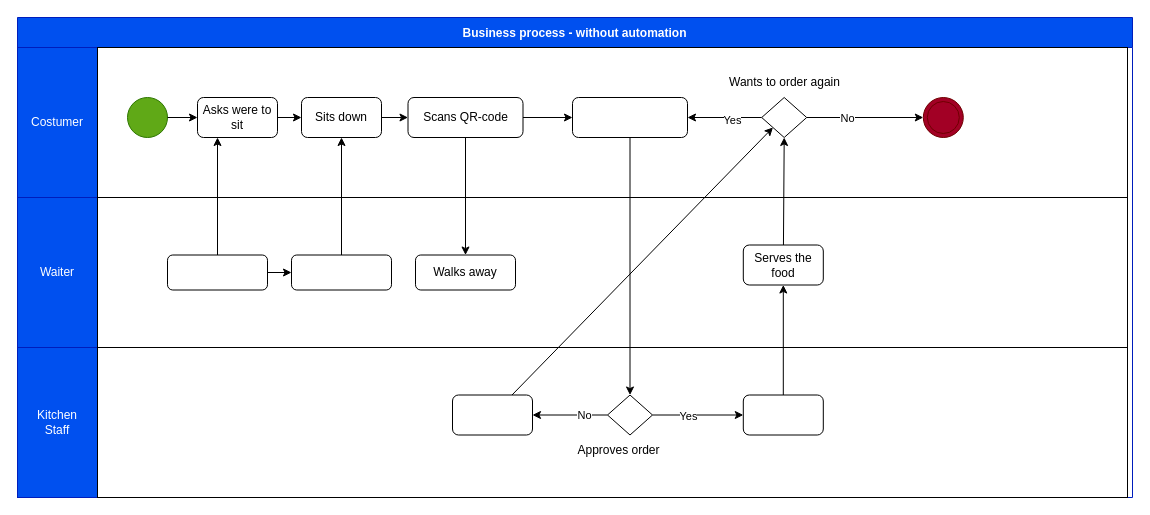
Image size: 1150x515. Some labels were removed from this diagram. Here are the shapes that lost their labels. From the top down, the centre of each, then its label:
At point 630,117: "Places an order".
At point 217,272: "Tells customer were they can sit".
At point 341,272: "Gives QR-code to costumer".
At point 492,414: "Order gets canceled".
At point 782,414: "Prepares order".
